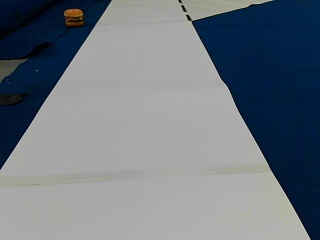burger: (63, 7, 84, 26)
